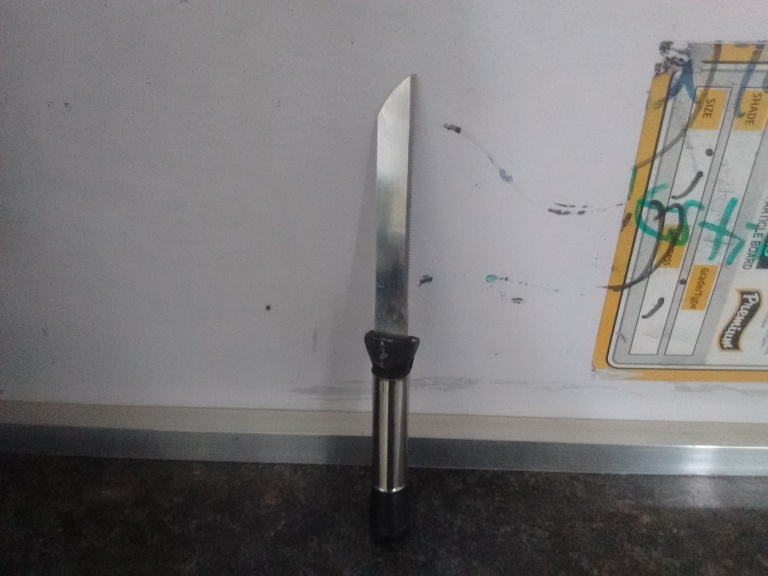knife: (362, 74, 420, 546)
